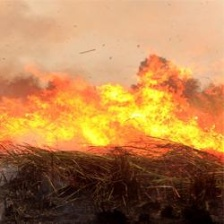fire: (1, 61, 224, 167)
